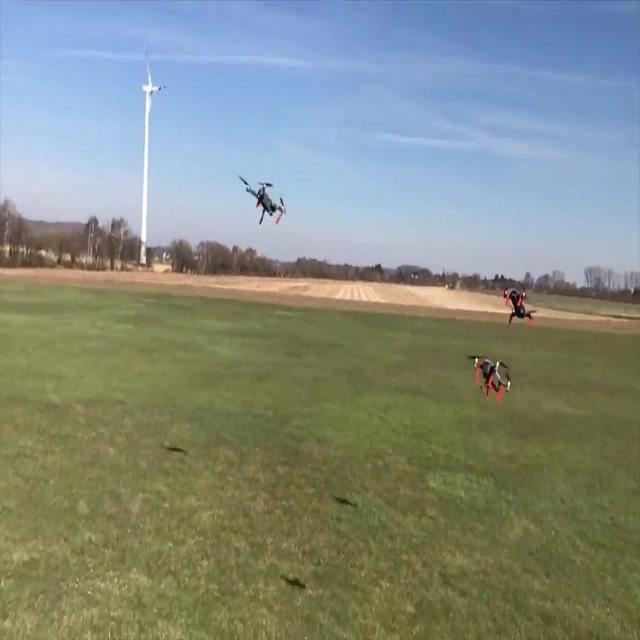UAV: (238, 174, 286, 226), (466, 355, 512, 406), (503, 287, 536, 328)
